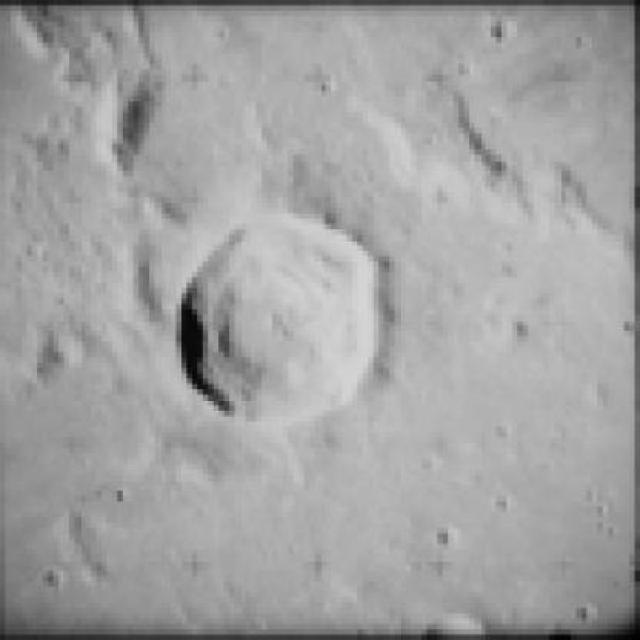crater: (175, 214, 378, 426)
